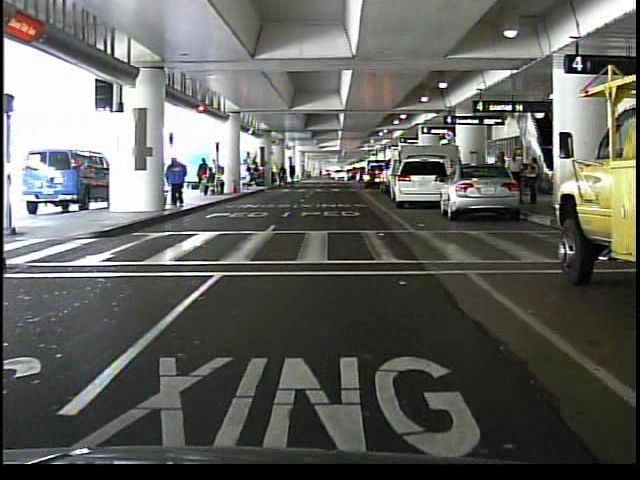person: (164, 153, 191, 208)
